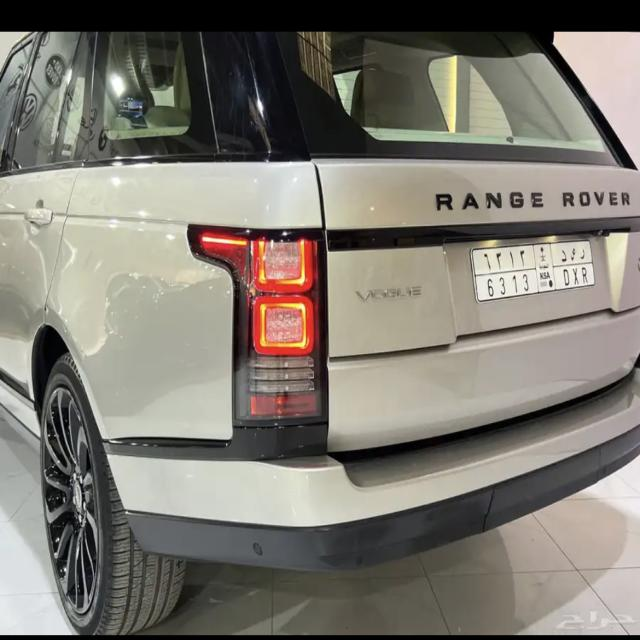license_plate: (474, 245, 602, 301)
